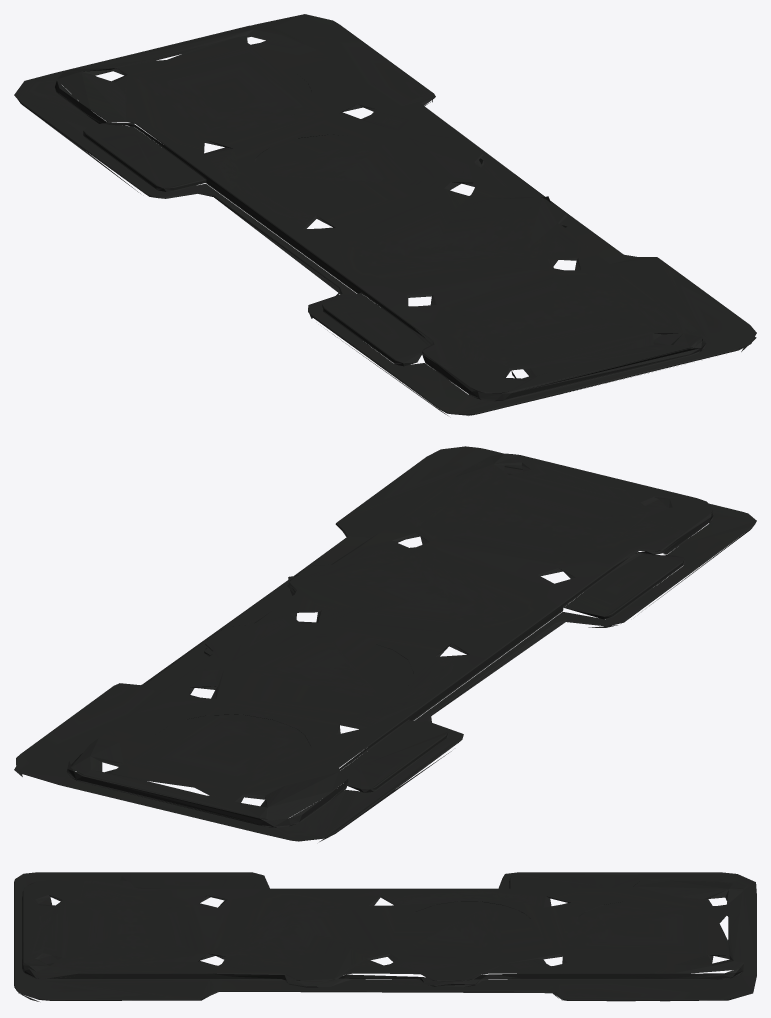
Rendered from engine_gasket_head_b01.glb.
The picture shows the model from 3 angles, top to bottom: view 1: azimuth 30°, elevation 25°; view 2: azimuth 150°, elevation 25°; view 3: azimuth 270°, elevation 25°; orthographic projection. The views are drawn at different scales.
Parts seen in each view (by area): view 1: geometry_0; view 2: geometry_0; view 3: geometry_0.
Boxes of the visible parts, bbox=[...] form: geometry_0: bbox=[14, 14, 756, 415]; geometry_0: bbox=[14, 446, 756, 841]; geometry_0: bbox=[14, 872, 756, 1001].
Bounding box in the file's own units: 0.1706 × 0.00864 × 0.42.
Materials: 1 (1 with a texture image).
